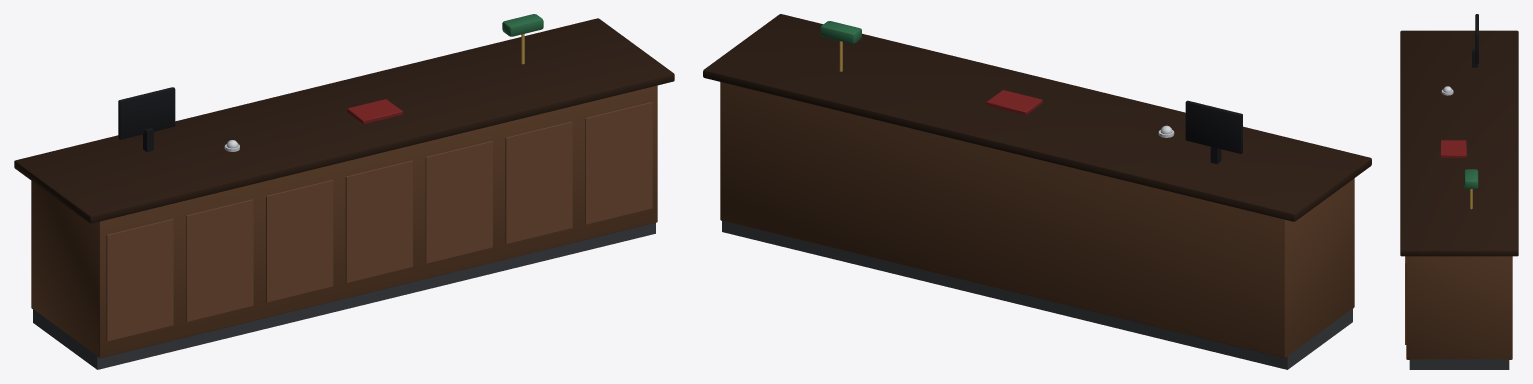
Rendered from sh_reception.glb.
3 renders of one model, left to right at view 1: azimuth 30°, elevation 25°; view 2: azimuth 150°, elevation 25°; view 3: azimuth 270°, elevation 25°, orthographic. The views are drawn at different scales.
Visible parts, largest first — view 1: panel, top, body, kick, mon, book, lampsh; view 2: body, top, kick, mon, book, lampsh; view 3: top, body, kick, book, lampsh, mon, panel.
Boxes of the visible parts, x1,y1,x2,y2 form: panel: (106, 102, 652, 341); top: (14, 18, 674, 223); body: (31, 85, 657, 358); kick: (33, 223, 655, 369); mon: (118, 87, 175, 151); book: (347, 99, 402, 123); lampsh: (502, 14, 543, 36); body: (720, 82, 1354, 357); top: (703, 14, 1371, 221); kick: (722, 221, 1352, 369); mon: (1185, 100, 1242, 164); book: (986, 90, 1042, 115); lampsh: (820, 21, 861, 43); top: (1400, 30, 1518, 256); body: (1406, 256, 1512, 359); kick: (1409, 359, 1509, 369); book: (1440, 140, 1466, 157); lampsh: (1464, 169, 1478, 188); mon: (1472, 14, 1478, 67); panel: (1405, 256, 1406, 344).
Bounding box in the file's own units: 4.4 × 1.59 × 1.
